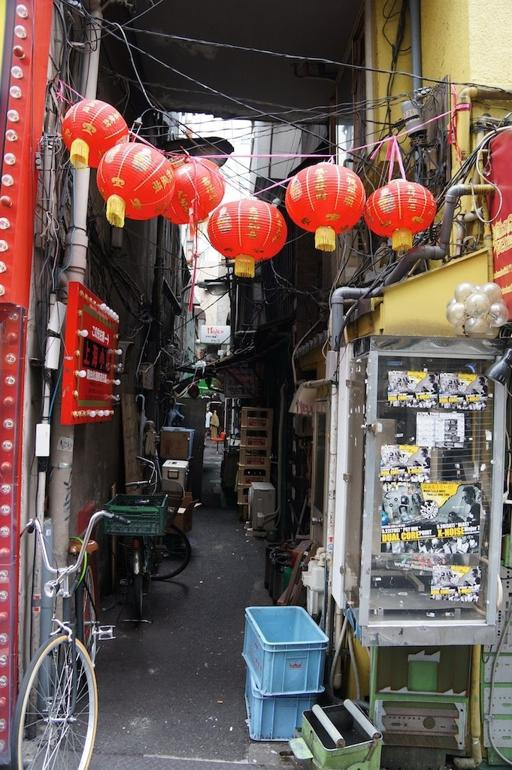non-vehicle: (10, 510, 131, 769), (119, 455, 191, 619)
